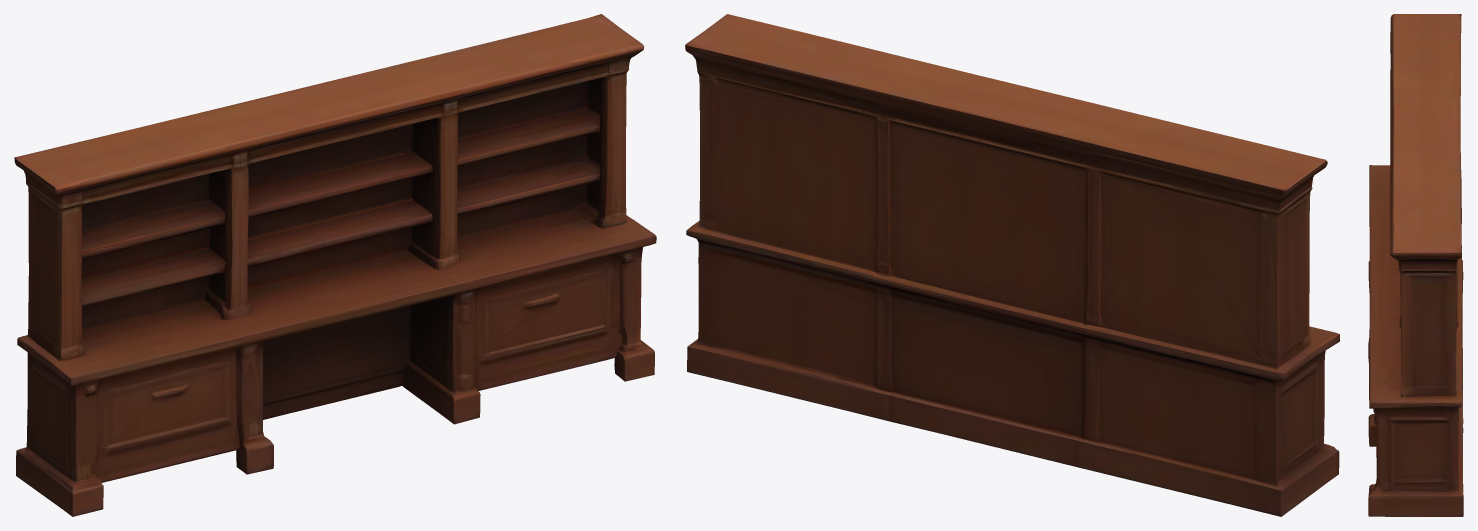
File: ballroom_bar.glb
The picture shows the model from 3 angles, left to right: view 1: azimuth 30°, elevation 25°; view 2: azimuth 150°, elevation 25°; view 3: azimuth 270°, elevation 25°; orthographic projection. The views are drawn at different scales.
Visible parts, largest first — view 1: geometry_0; view 2: geometry_0; view 3: geometry_0.
Part boxes in pixels (bbox=[...]): geometry_0: bbox=[14, 14, 656, 516]; geometry_0: bbox=[685, 14, 1339, 516]; geometry_0: bbox=[1368, 14, 1463, 516].
Bounding box in the file's own units: 1 × 0.521 × 0.1686.
Materials: 1 (1 with a texture image).
